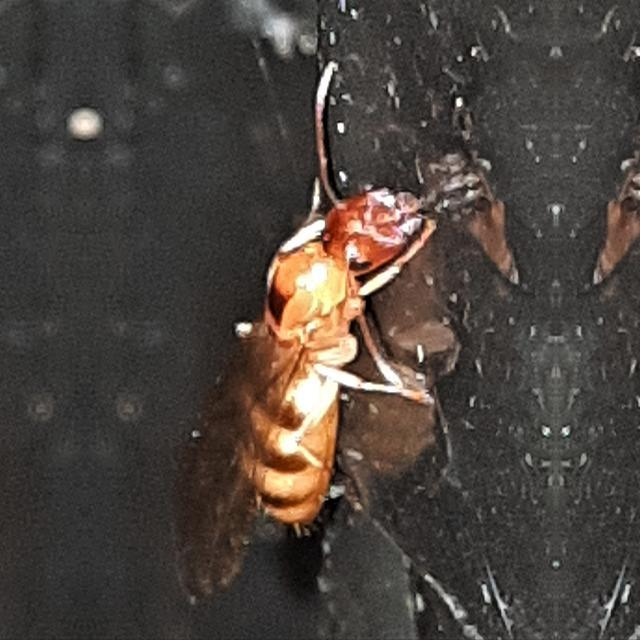Colobopsis: (182, 80, 470, 592)
